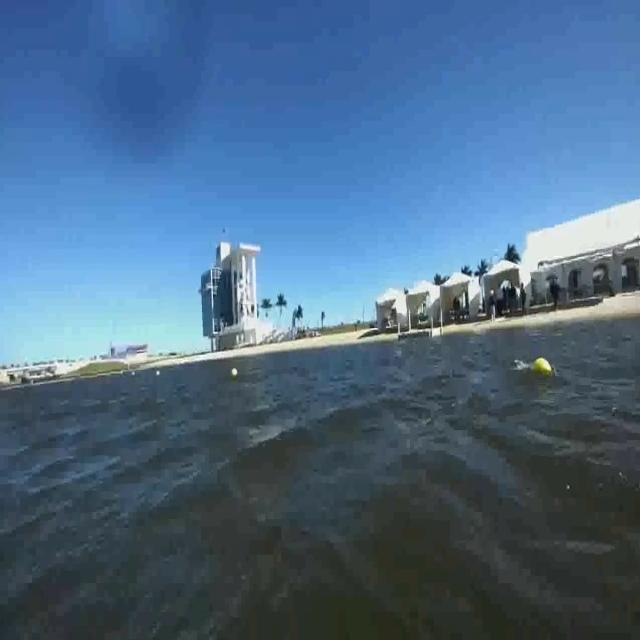yellow-buoy: (533, 358, 553, 376), (231, 364, 241, 380)
